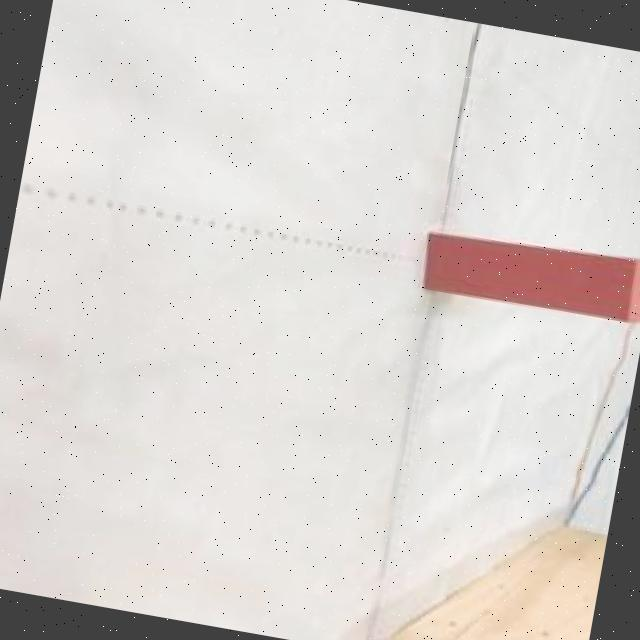redbox: (418, 222, 640, 327)
